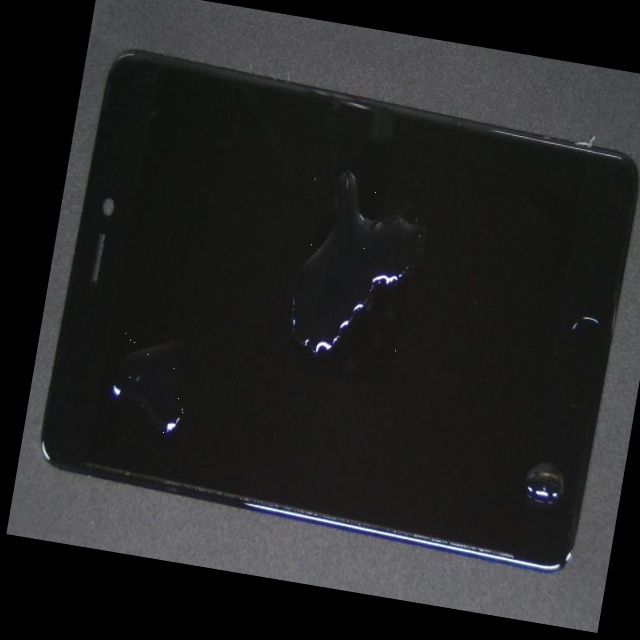oil: (57, 134, 197, 537), (224, 127, 514, 304)
